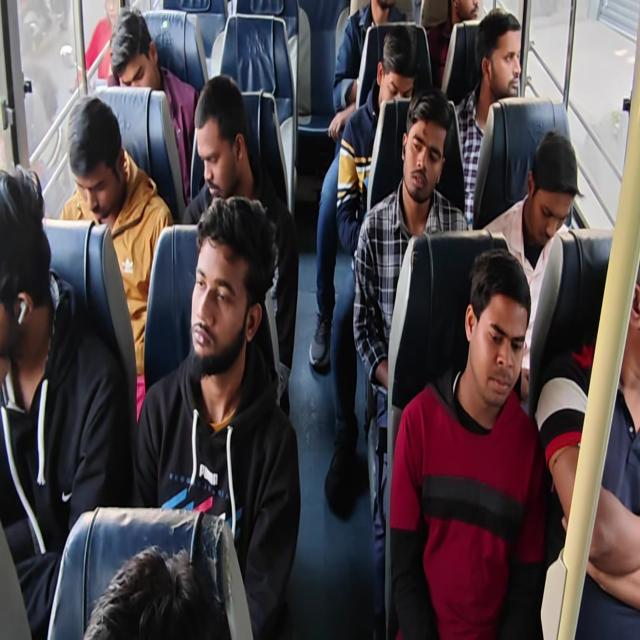person: (184, 207, 272, 368), (0, 166, 60, 364), (466, 264, 527, 399), (63, 103, 127, 221), (195, 82, 255, 194), (109, 16, 178, 100), (600, 238, 640, 361), (526, 156, 574, 248), (401, 101, 442, 193), (487, 23, 521, 98), (379, 45, 413, 117), (447, 0, 486, 34), (367, 0, 397, 25)
